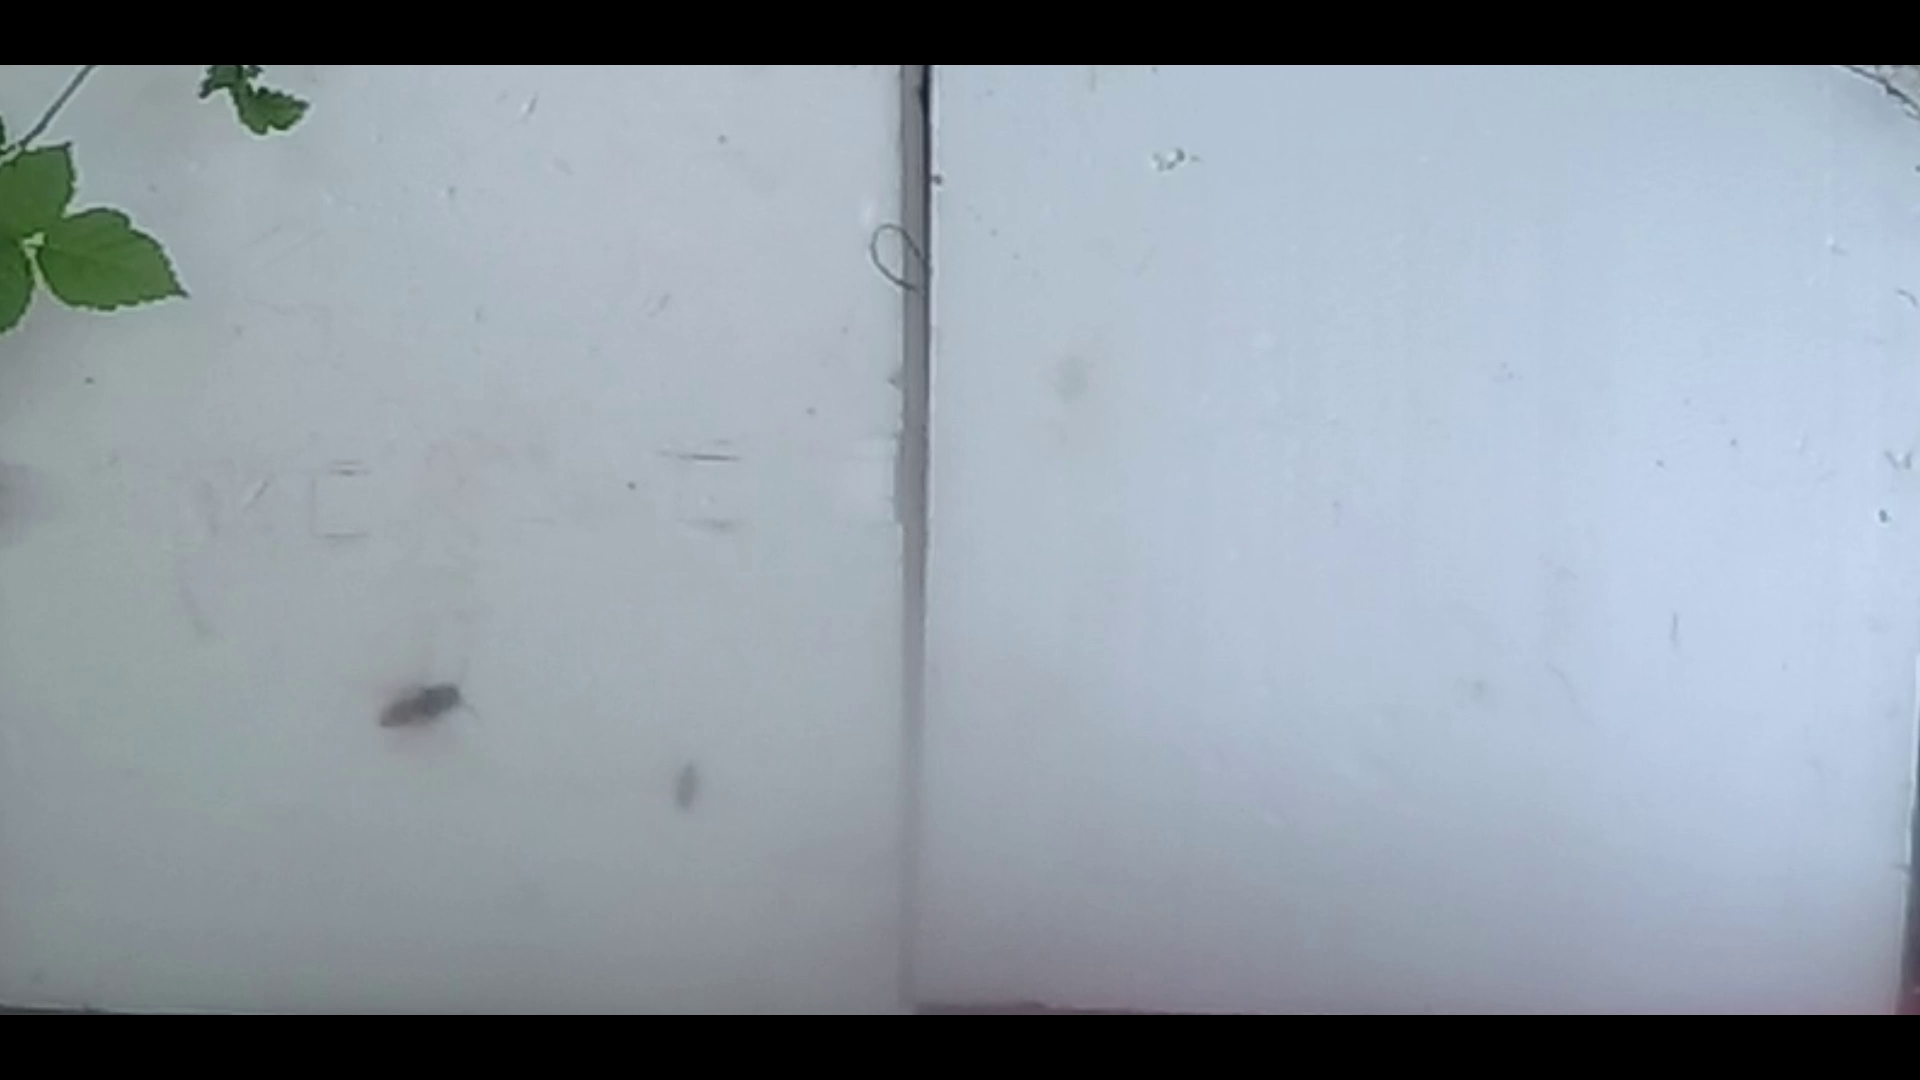Asian_hornets: (357, 644, 502, 760)
